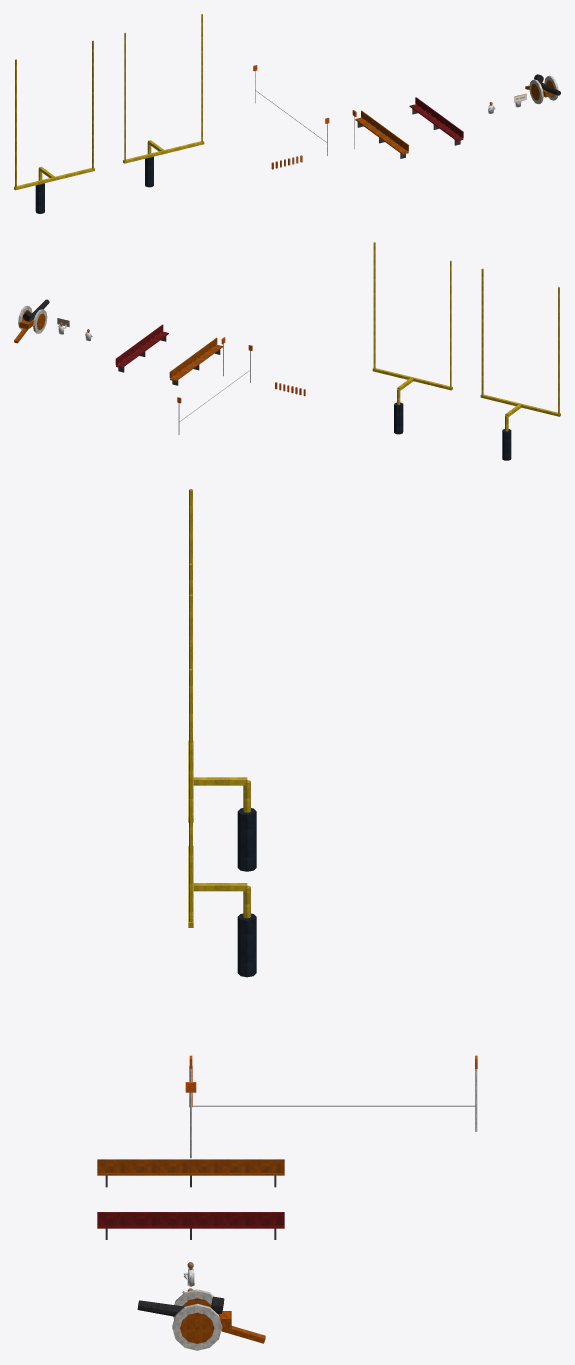
Rendered from props.glb.
3 views of the same model, one above another, from view 1: azimuth 30°, elevation 25°; view 2: azimuth 150°, elevation 25°; view 3: azimuth 270°, elevation 25° (orthographic). The views are drawn at different scales.
Parts seen in each view (by area): view 1: goalpost_home, goalpost_away, bench_ou, bench_texas, smokey; view 2: goalpost_home, goalpost_away, bench_texas, bench_ou, smokey; view 3: smokey, goalpost_away, bench_texas, bench_ou, goalpost_home.
Part boxes in pixels (box(x1,y1,x2,y2)): goalpost_home: box(14, 40, 94, 213); goalpost_away: box(123, 14, 204, 187); bench_ou: box(409, 97, 463, 145); bench_texas: box(355, 110, 408, 158); smokey: box(525, 74, 560, 104); goalpost_home: box(480, 268, 560, 460); goalpost_away: box(372, 242, 452, 434); bench_texas: box(169, 337, 222, 385); bench_ou: box(115, 324, 168, 372); smokey: box(14, 299, 49, 343); smokey: box(137, 1289, 265, 1350); goalpost_away: box(188, 594, 256, 977); bench_texas: box(97, 1159, 284, 1187); bench_ou: box(97, 1212, 284, 1239); goalpost_home: box(188, 489, 256, 871).
Bounding box in the file's own units: 39.55 × 12.06 × 12.18.
15 materials, 13 textured.
